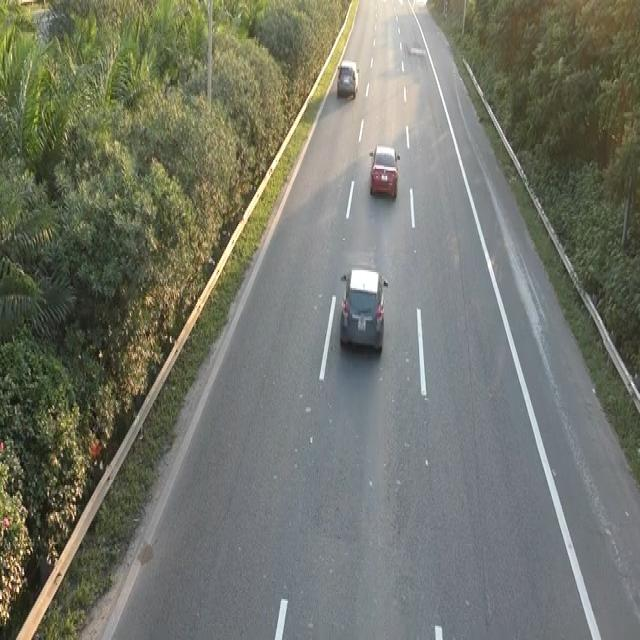bus: (368, 141, 400, 199), (336, 58, 359, 98)
lorry: (337, 261, 390, 359)
